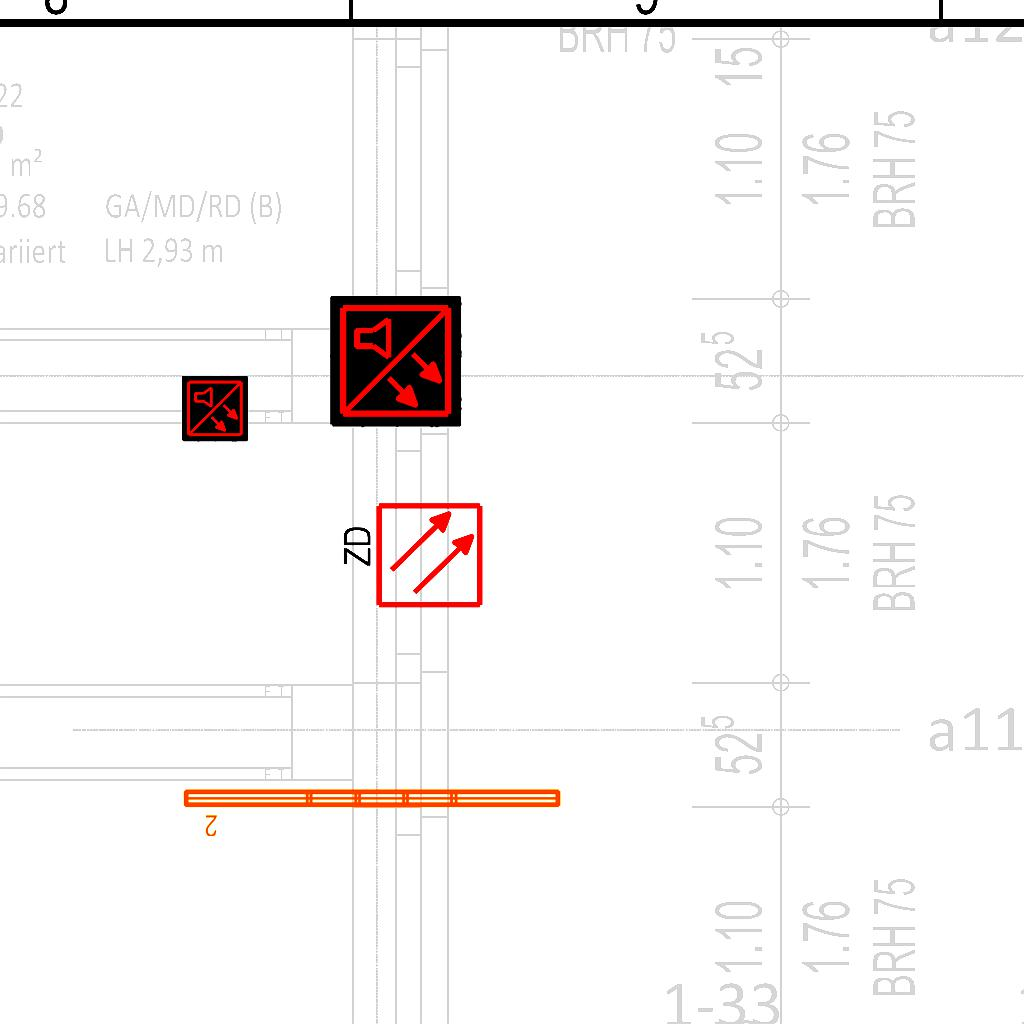Ambulanz_Pendelleuchte_LED: (179, 783, 566, 839)
OKW_Multisensormelder_(Kombination_optischer_Rauch-Kahlenmonoxid_Waerme-Melder): (330, 296, 462, 428), (182, 376, 248, 442)
ZD_Melder_in_Zwischendecke_mit_Revisionsoeffnung_mind_40_x_40_cm: (336, 500, 485, 614)
